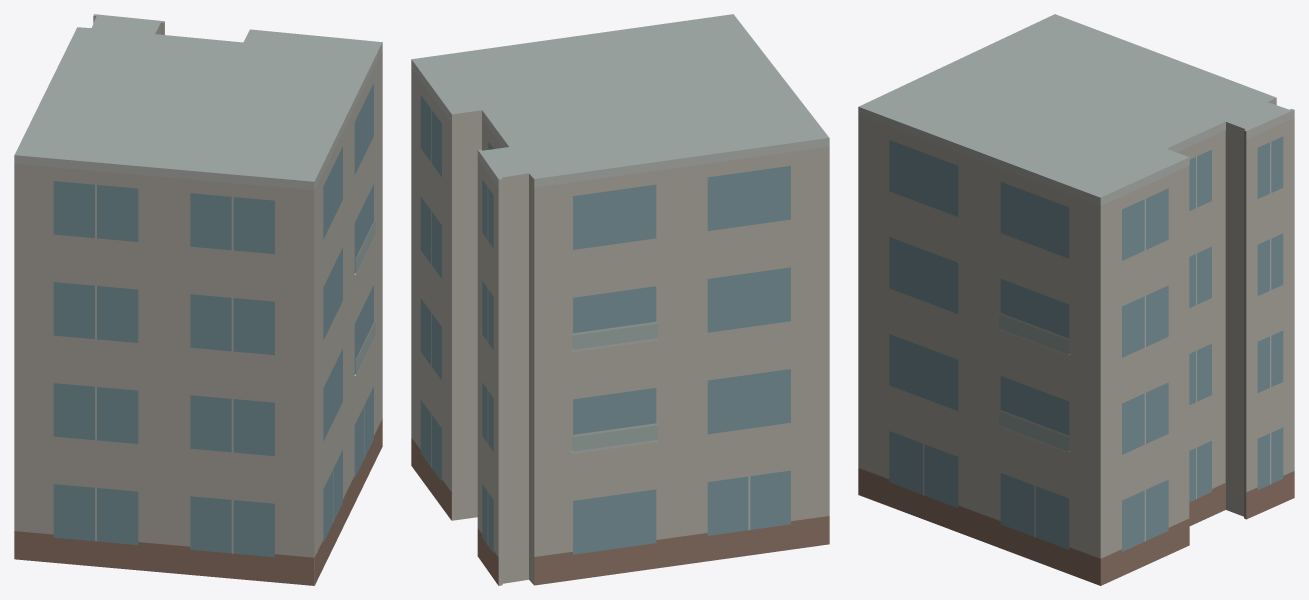
The model's file is survey-upis-32661936.glb.
3 renders of one model, left to right at view 1: azimuth 30°, elevation 25°; view 2: azimuth 150°, elevation 25°; view 3: azimuth 270°, elevation 25°, orthographic. The views are drawn at different scales.
Visible parts, largest first — view 1: survey-upis-32661936.tmp; view 2: survey-upis-32661936.tmp; view 3: survey-upis-32661936.tmp.
Boxes of the visible parts, bbox=[...] form: survey-upis-32661936.tmp: bbox=[14, 14, 382, 585]; survey-upis-32661936.tmp: bbox=[411, 14, 829, 585]; survey-upis-32661936.tmp: bbox=[858, 14, 1294, 585].
Size of the model in its own units: 11.58 by 11.4 by 11.62.
